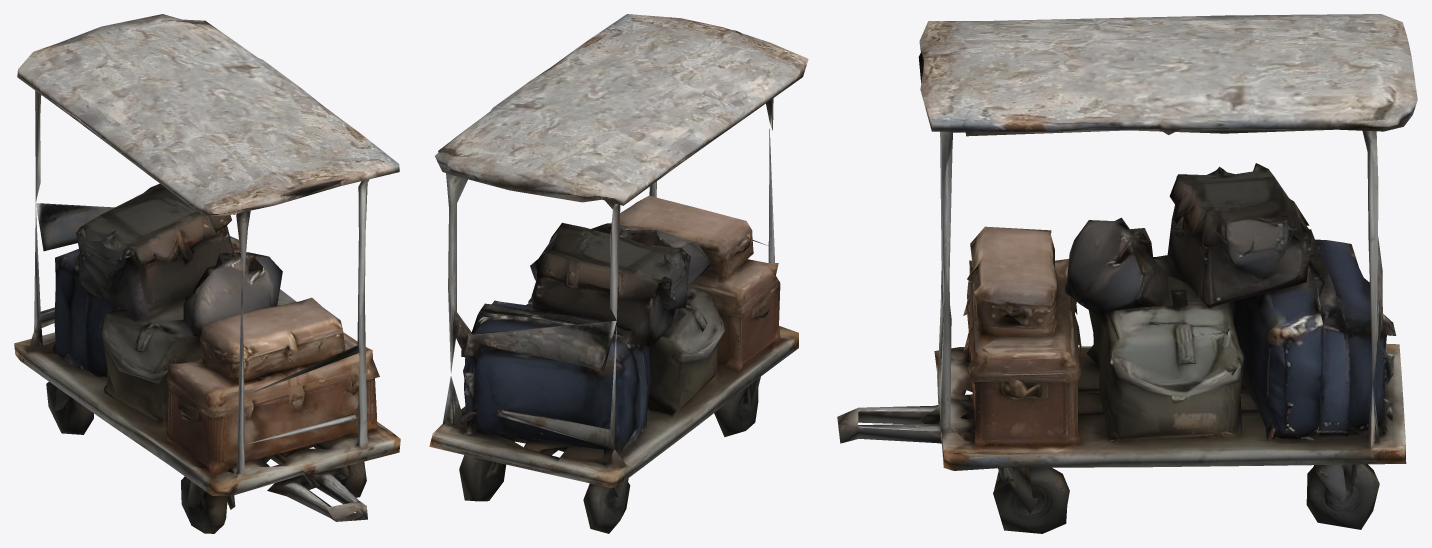
File: ap_bagcart.glb
3 views of the same model, side by side, from view 1: azimuth 30°, elevation 25°; view 2: azimuth 150°, elevation 25°; view 3: azimuth 270°, elevation 25° (orthographic). The views are drawn at different scales.
Visible parts, largest first — view 1: tripo_node_b7df41e8-6b12-4798-8f25-22b895fcdfe8; view 2: tripo_node_b7df41e8-6b12-4798-8f25-22b895fcdfe8; view 3: tripo_node_b7df41e8-6b12-4798-8f25-22b895fcdfe8.
Part boxes in pixels (x1,y1,x2,y2): tripo_node_b7df41e8-6b12-4798-8f25-22b895fcdfe8: [14, 14, 400, 533]; tripo_node_b7df41e8-6b12-4798-8f25-22b895fcdfe8: [429, 14, 808, 533]; tripo_node_b7df41e8-6b12-4798-8f25-22b895fcdfe8: [837, 14, 1417, 533].
Bounding box in the file's own units: 0.4615 × 0.8358 × 1.
1 material, 1 textured.
